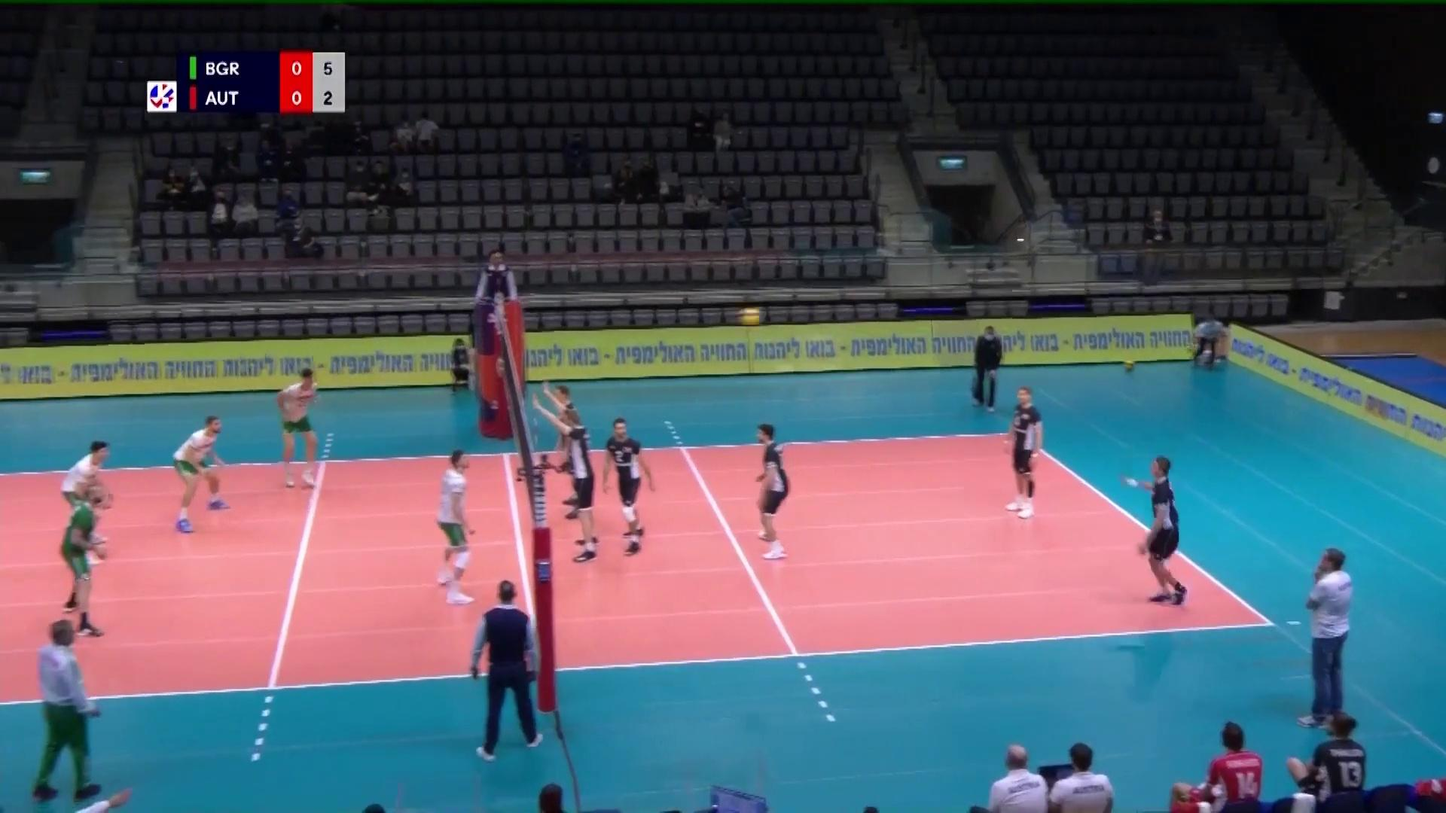ball: (737, 308, 762, 324)
